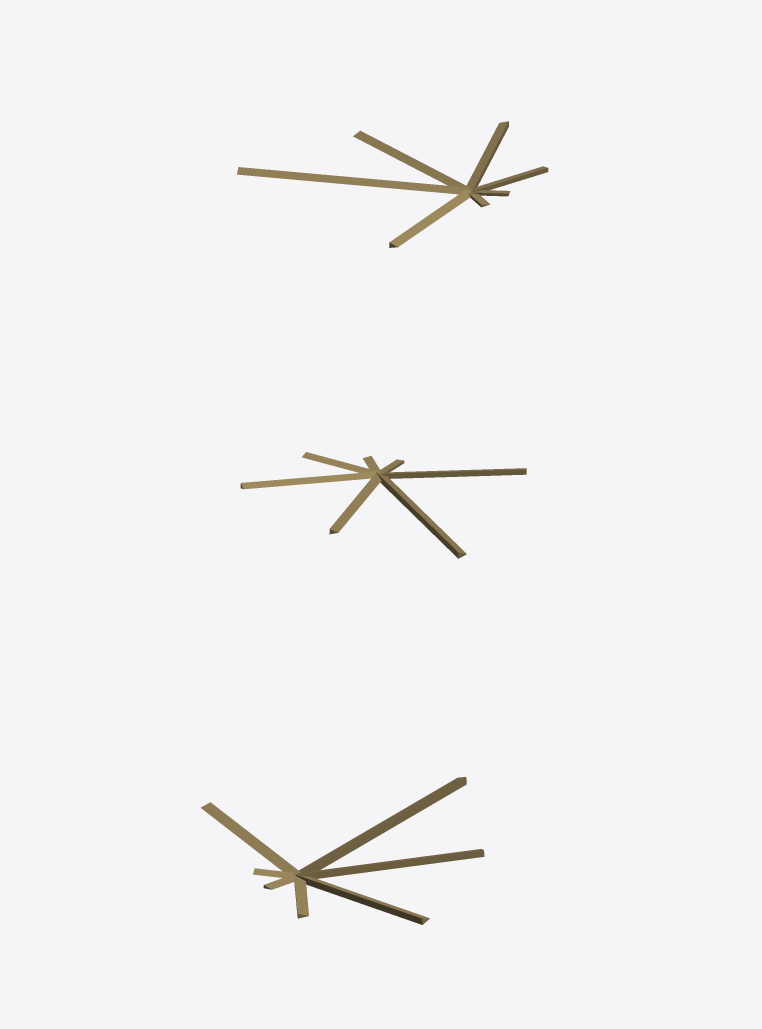
The model's file is shui.pingpeng@fruiting__autumn.glb.
The picture shows the model from 3 angles, top to bottom: view 1: azimuth 30°, elevation 25°; view 2: azimuth 150°, elevation 25°; view 3: azimuth 270°, elevation 25°; orthographic projection. The views are drawn at different scales.
Visible parts, largest first — view 1: shui.pingpeng@fruiting__autumn; view 2: shui.pingpeng@fruiting__autumn; view 3: shui.pingpeng@fruiting__autumn.
Part boxes in pixels (box(x1,y1,x2,y2)): shui.pingpeng@fruiting__autumn: box(237, 121, 548, 247); shui.pingpeng@fruiting__autumn: box(240, 452, 526, 558); shui.pingpeng@fruiting__autumn: box(201, 777, 484, 924).
Size of the model in its own units: 1.28 by 0.0296 by 1.15.
